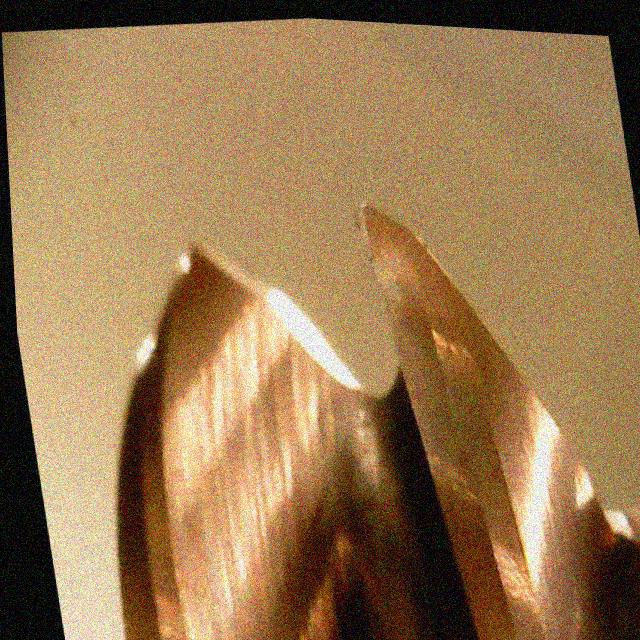Tool-wear-class-0: (346, 178, 514, 526)
